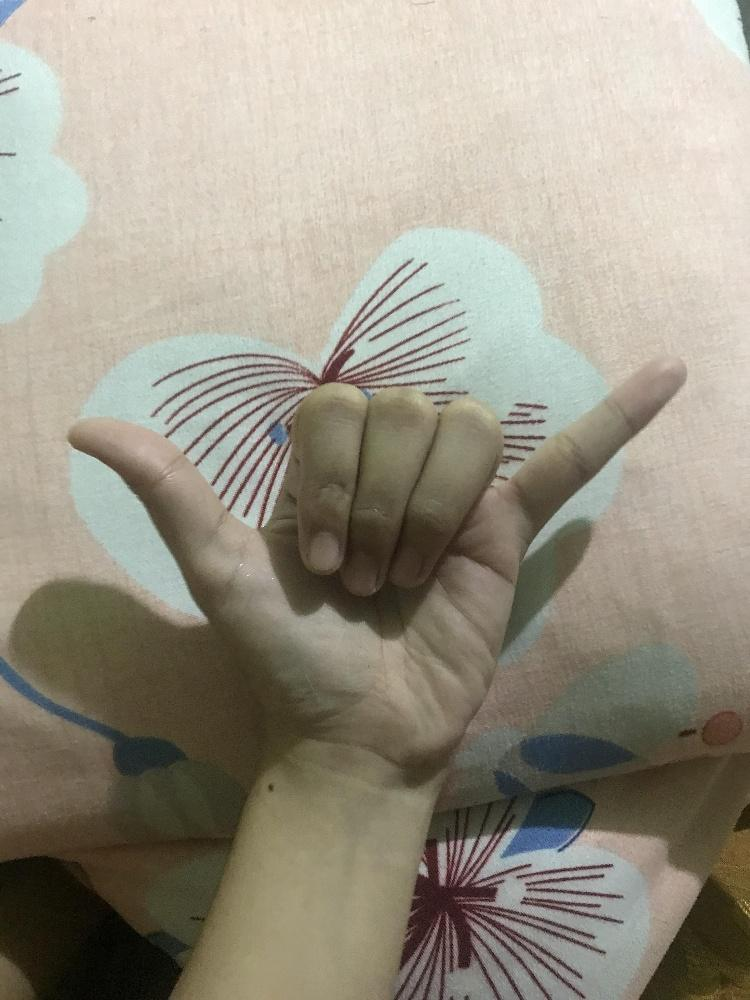y: (60, 341, 693, 782)
